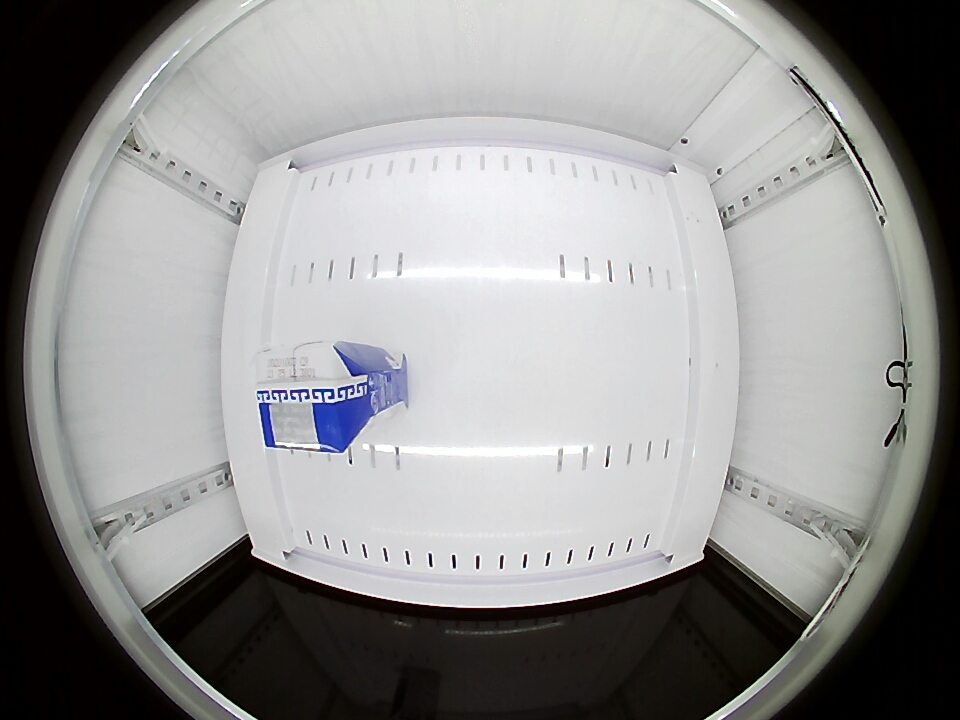anmuxi: (255, 342, 370, 454)
